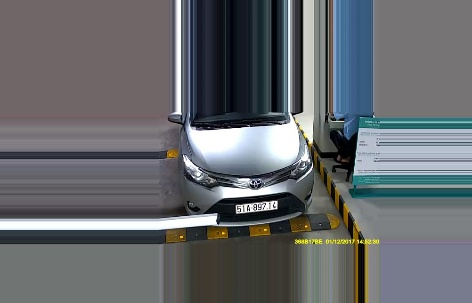plate: (232, 198, 279, 213)
